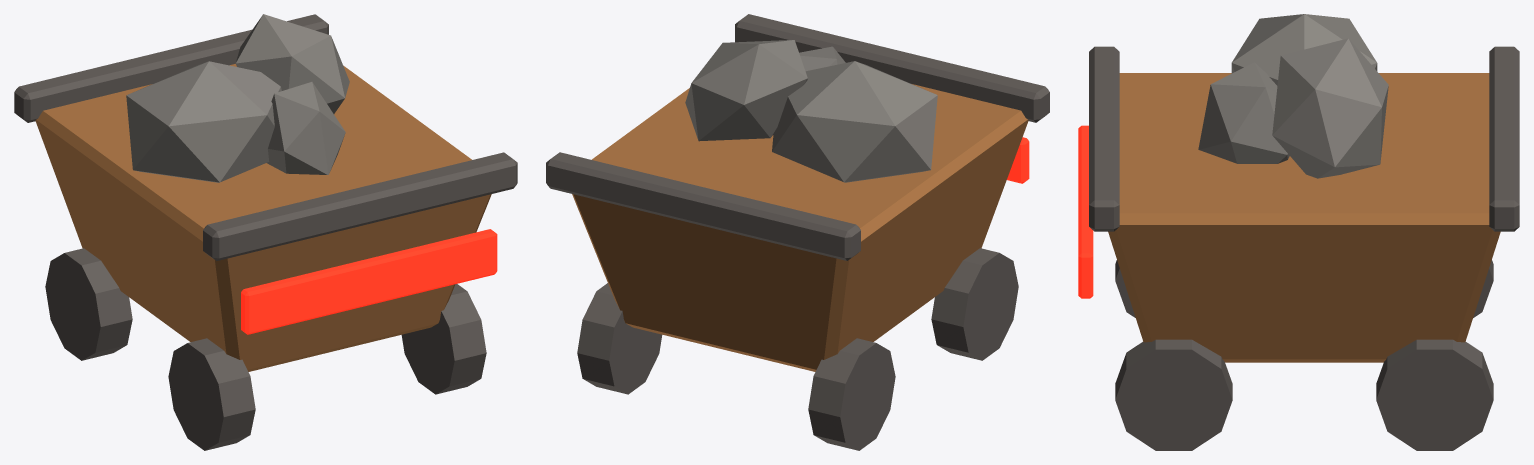
The model's file is blocker_cart.glb.
3 renders of one model, left to right at view 1: azimuth 30°, elevation 25°; view 2: azimuth 150°, elevation 25°; view 3: azimuth 270°, elevation 25°, orthographic. The views are drawn at different scales.
Parts seen in each view (by area): view 1: GEO_copper, GEO_iron, GEO_stone, GEO_hazard; view 2: GEO_copper, GEO_iron, GEO_stone, GEO_hazard; view 3: GEO_copper, GEO_iron, GEO_stone, GEO_hazard.
Part boxes in pixels (x1,y1,x2,y2): GEO_copper: (35, 64, 491, 371); GEO_iron: (14, 14, 517, 450); GEO_stone: (126, 14, 349, 182); GEO_hazard: (241, 229, 497, 334); GEO_copper: (572, 84, 1028, 371); GEO_iron: (546, 14, 1049, 450); GEO_stone: (685, 40, 937, 182); GEO_hazard: (1007, 137, 1029, 183); GEO_copper: (1108, 73, 1500, 362); GEO_iron: (1089, 46, 1519, 450); GEO_stone: (1198, 14, 1388, 178); GEO_hazard: (1078, 125, 1093, 298).
Size of the model in its own units: 1.72 by 1.8 by 2.03.
